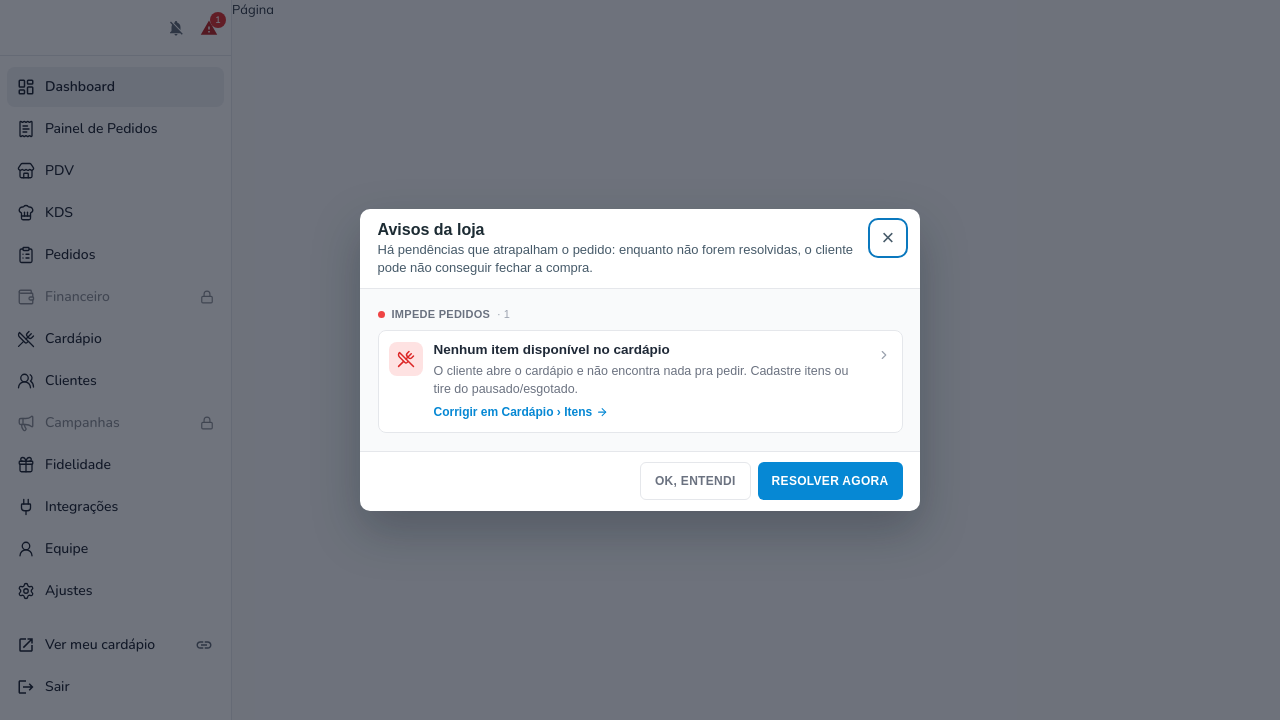
AdminLayout — checklist de configuração › o ícone de alerta do card reabre o alerta depois do OK
Expected: the dialog is shown, [360,209,920,511]
Click the button "OK, entendi". click: [695, 481]
box: [640,462,751,500]
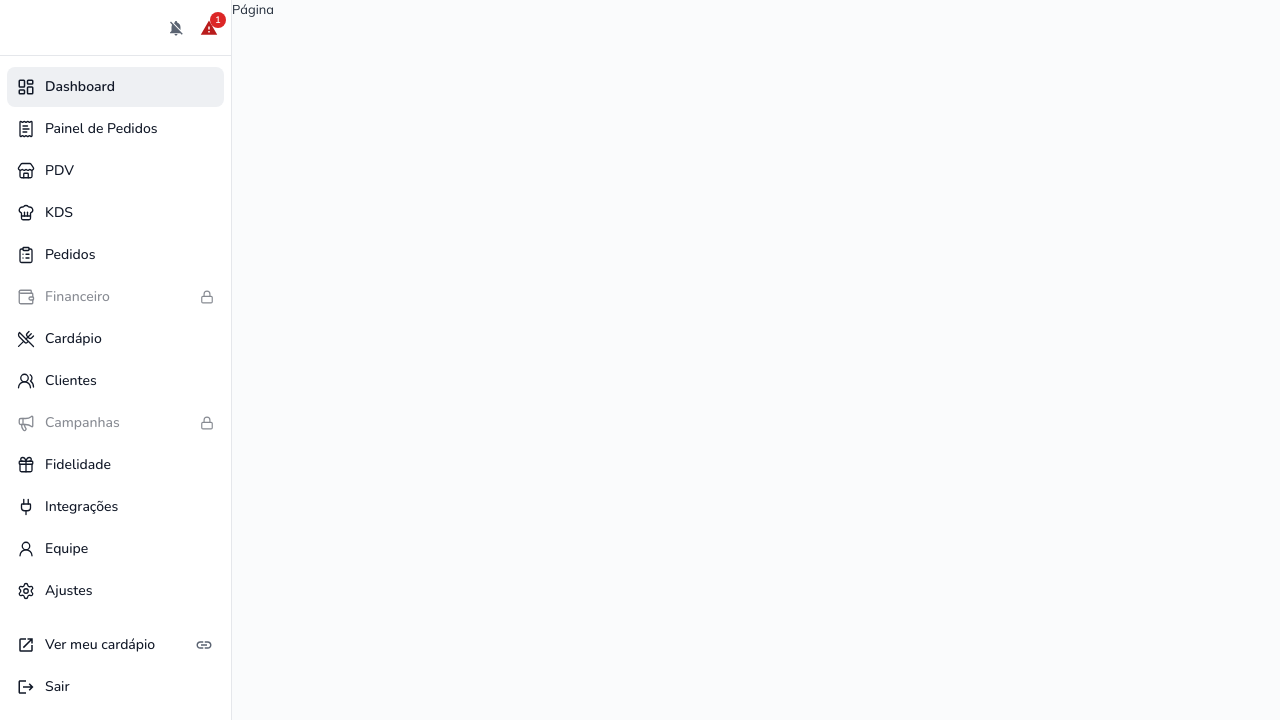
Expected: the dialog is gone
Click the button named "1 pendência". click: [209, 28]
box: [194,12,224,44]
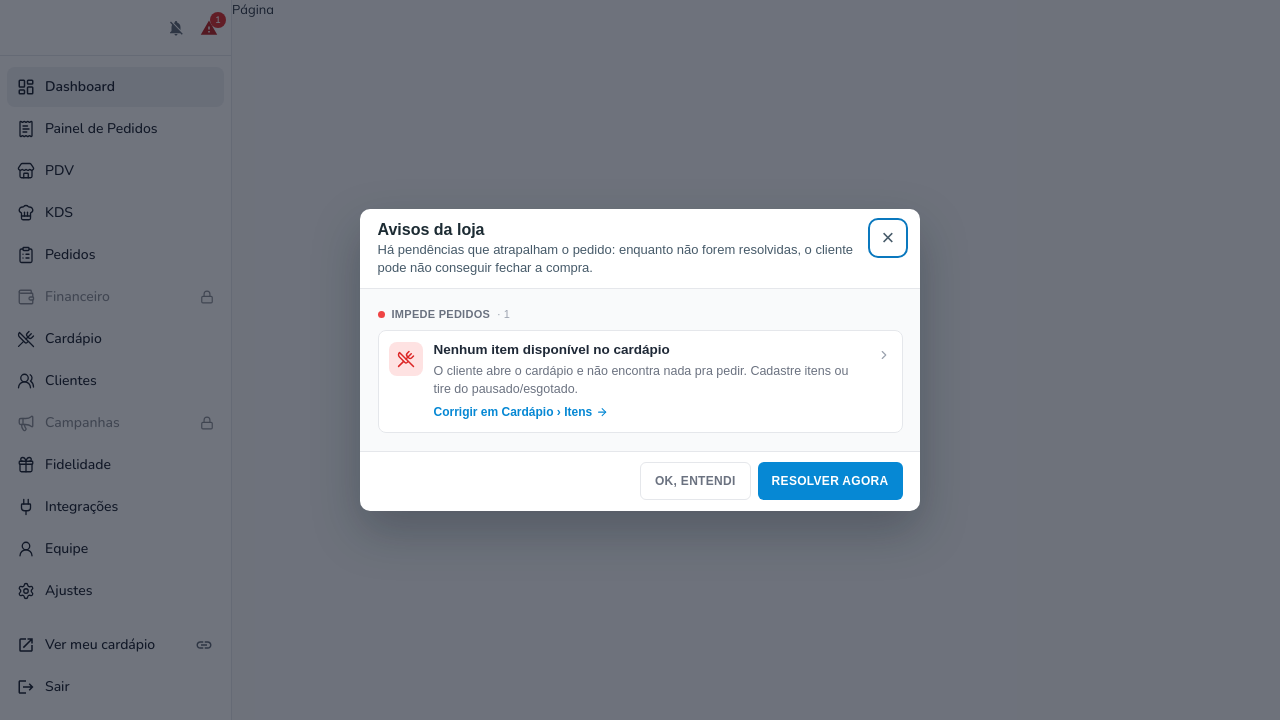
Expected: the dialog is shown, [360,209,920,511]
